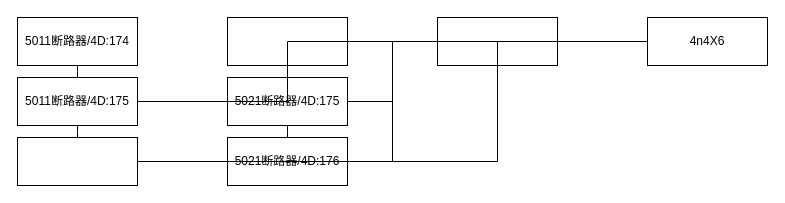
This 785x203 diagram has some shape labels left out. The shapes that lost their labels are listed below. From the top down, each one's centre as x and y in pixels, then its label:
At pixel 287 41: "5021断路器/4D:174".
At pixel 497 41: "3D124".
At pixel 77 161: "5011断路器/4D:176".
